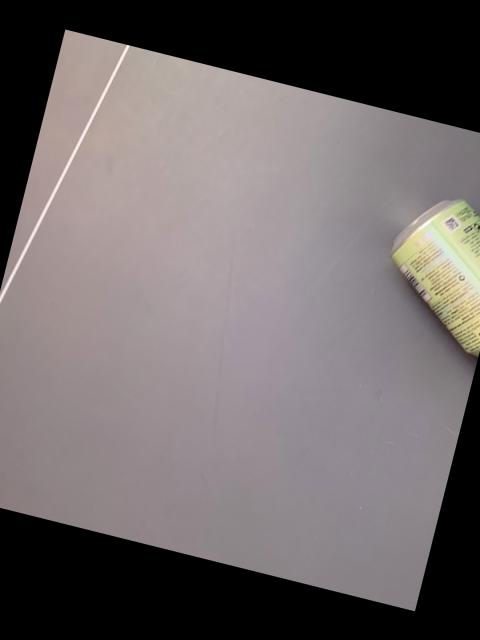metal: (390, 201, 480, 358)
